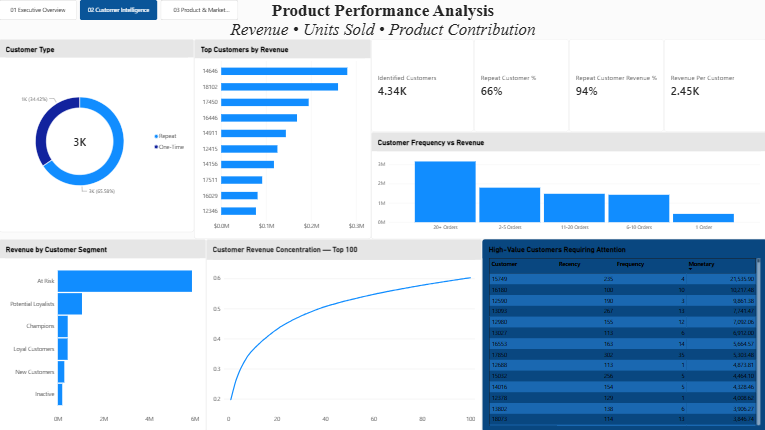

What the dashboard file says about the page in this screenshot:
{"tool":"powerbi","page":{"name":"02 Customer Intelligence","canvas":[1920,1080],"ordinal":1},"visuals":[{"type":"cardVisual","fields":{"Data":["Table = Measures.Total Customers"]},"box":[930,97.5,257.5,232.5],"z":0},{"type":"cardVisual","fields":{"Data":["Table = Measures.Repeat Customer %"]},"box":[1187.5,97.5,237.5,232.5],"z":1000},{"type":"cardVisual","fields":{"Data":["Table = Measures.Repeat Customer Revenue %"]},"box":[1425,97.5,237.5,232.5],"z":2000},{"type":"cardVisual","fields":{"Data":["Table = Measures.Revenue Per Customer"]},"box":[1662.5,97.5,257.5,232.5],"z":3000},{"type":"donutChart","title":"Customer Type","fields":{"Y":["Table = Measures.Repeat Customers","Table = Measures.One Time Customer"]},"box":[0,97.5,487.5,482.5],"z":4000},{"type":"columnChart","title":"Customer Frequency vs Revenue","fields":{"Y":["customer_sales_analytics dim_customer_analysis.Customer Revenue"],"Category":["customer_sales_analytics dim_customer_analysis.Order_Frequency_Group"]},"box":[930,330,990,267.5],"z":5000},{"type":"barChart","title":"Top Customers by Revenue","fields":{"Category":["customer_sales_analytics dim_customer.CustomerID"],"Y":["Table = Measures.Total Revenue"]},"box":[487.5,97.5,442.5,500],"z":6000},{"type":"barChart","title":"Revenue by Customer Segment","fields":{"Category":["customer_sales_analytics dim_customer_rfm.Customer_Segment"],"Y":["Sum(customer_sales_analytics dim_customer_rfm.Monetary_Value)"]},"box":[0,597.5,517.5,482.5],"z":7000},{"type":"tableEx","title":"High-Value Customers Requiring Attention","fields":{"Values":["customer_sales_analytics dim_customer_rfm.CustomerID","customer_sales_analytics dim_customer_rfm.Recency","customer_sales_analytics dim_customer_rfm.Frequency","customer_sales_analytics dim_customer_rfm.Monetary_Value"]},"box":[1207.5,597.5,712.5,482.5],"z":8000},{"type":"textbox","box":[0,0,1920,97.5],"z":9000},{"type":"lineChart","title":"Customer Revenue Concentration — Top 100","fields":{"Category":["Customer Rank Axis.Value"],"Y":["customer_sales_analytics dim_customer.Customer Cumulative Revenue %.1"]},"box":[517.5,597.5,690,482.5],"z":10000},{"type":"pageNavigator","box":[0,0,600,50],"z":10001}]}

Visuals, with their boxes on the page's 1920x1080 design canvas (x1, y1, x2, y2). These are canvas units, not pixel positions in the 765x430 screenshot, which may show the page scaled, cropped or inside an application window:
cardVisual - Table = Measures.Total Customers: (930, 98, 1188, 330)
cardVisual - Table = Measures.Repeat Customer %: (1188, 98, 1425, 330)
cardVisual - Table = Measures.Repeat Customer Revenue %: (1425, 98, 1662, 330)
cardVisual - Table = Measures.Revenue Per Customer: (1662, 98, 1920, 330)
"Customer Type" donutChart: (0, 98, 488, 580)
"Customer Frequency vs Revenue" columnChart: (930, 330, 1920, 598)
"Top Customers by Revenue" barChart: (488, 98, 930, 598)
"Revenue by Customer Segment" barChart: (0, 598, 518, 1080)
"High-Value Customers Requiring Attention" tableEx: (1208, 598, 1920, 1080)
textbox: (0, 0, 1920, 98)
"Customer Revenue Concentration — Top 100" lineChart: (518, 598, 1208, 1080)
pageNavigator: (0, 0, 600, 50)
